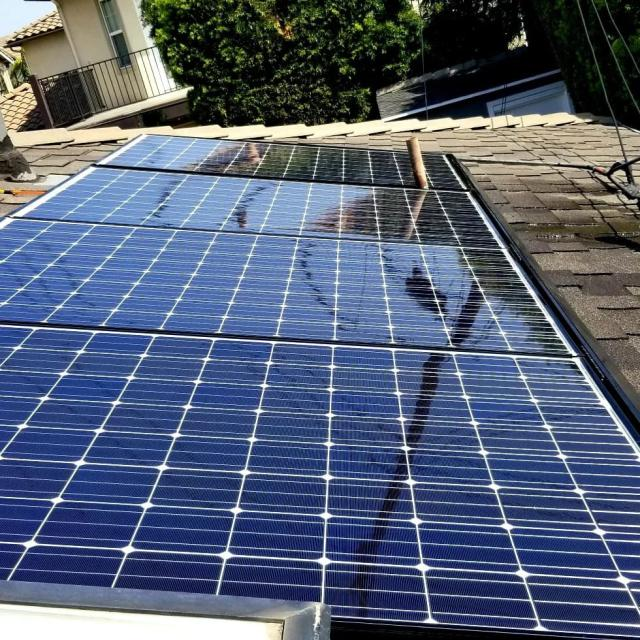clean-solar-panel: (0, 135, 640, 639)
